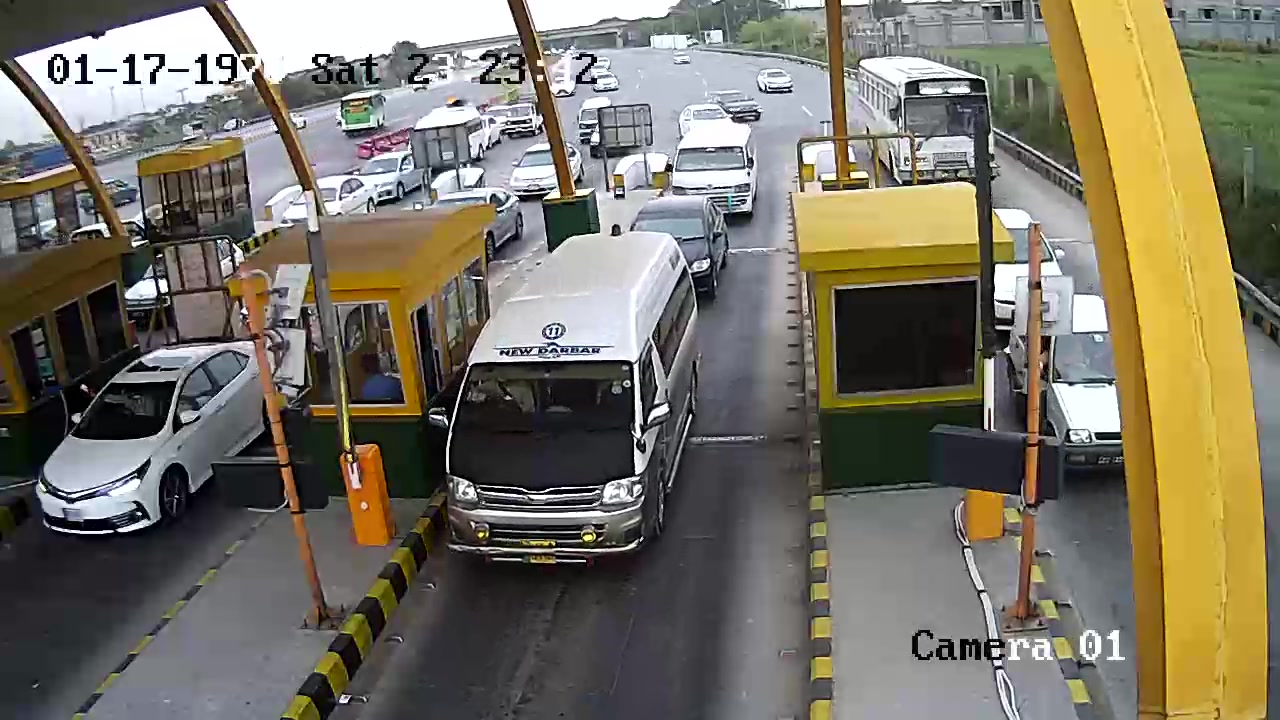F3: (438, 229, 700, 579)
